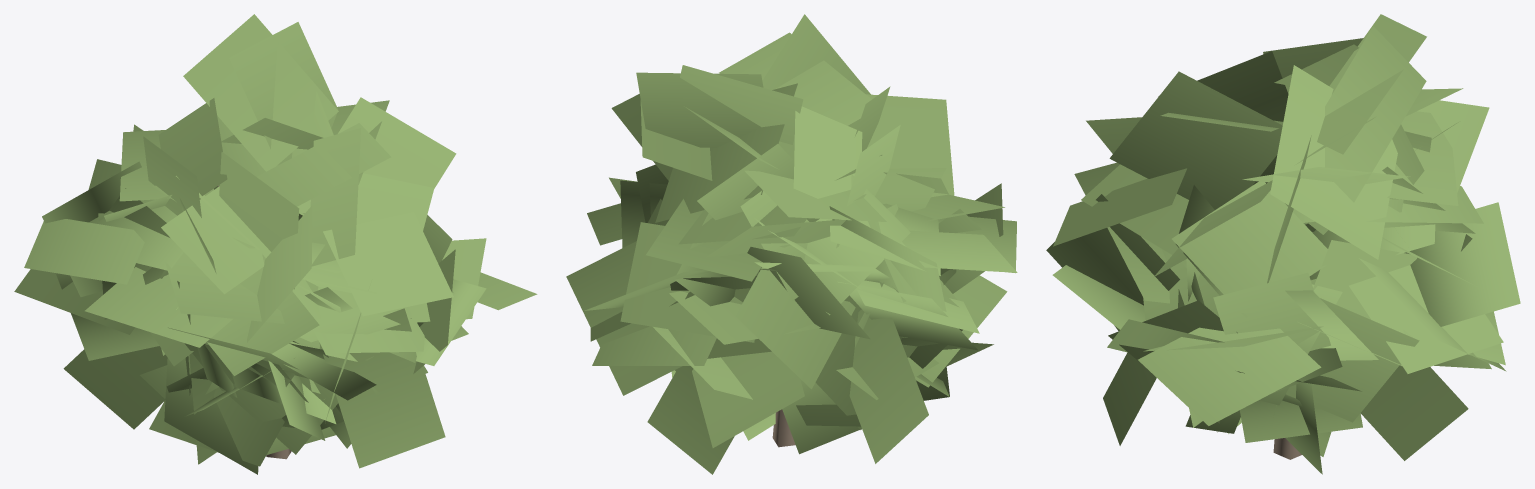
Rendered from Oak_11_young_lod2.glb.
The picture shows the model from 3 angles, left to right: view 1: azimuth 30°, elevation 25°; view 2: azimuth 150°, elevation 25°; view 3: azimuth 270°, elevation 25°; orthographic projection. The views are drawn at different scales.
Visible parts, largest first — view 1: Oak_11_young_lod2; view 2: Oak_11_young_lod2; view 3: Oak_11_young_lod2.
Boxes of the visible parts, bbox=[...] form: Oak_11_young_lod2: bbox=[14, 14, 537, 474]; Oak_11_young_lod2: bbox=[566, 14, 1017, 474]; Oak_11_young_lod2: bbox=[1046, 14, 1520, 474].
Bounding box in the file's own units: 10.66 × 8.61 × 8.49.
